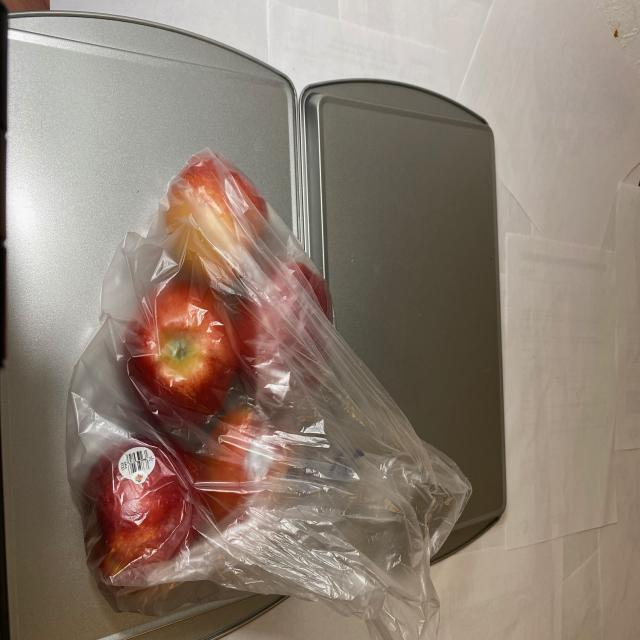apple: (78, 160, 367, 604)
